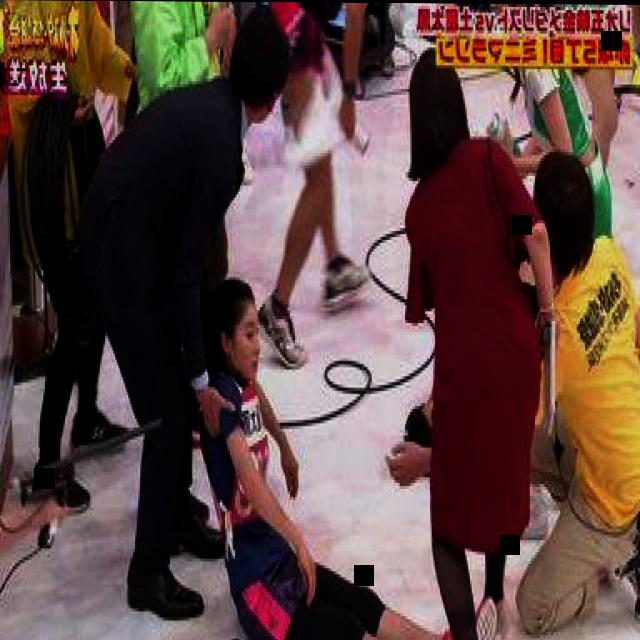Fall-Detected: (192, 244, 510, 640)
